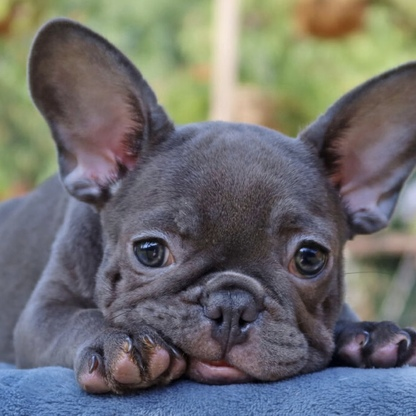bulldog: (23, 16, 416, 389)
